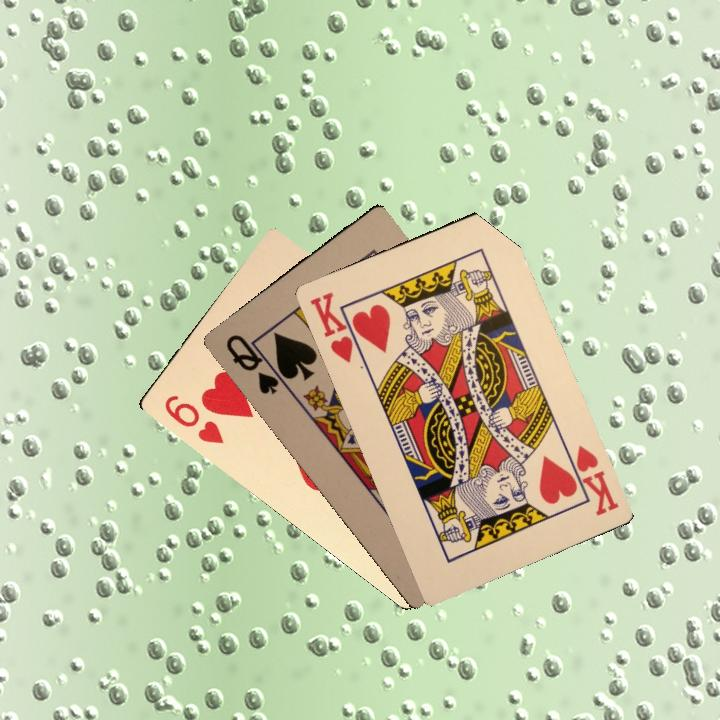6h: (160, 390, 226, 446)
Kh: (305, 287, 366, 366), (562, 441, 621, 518)
Qs: (221, 330, 290, 397)
